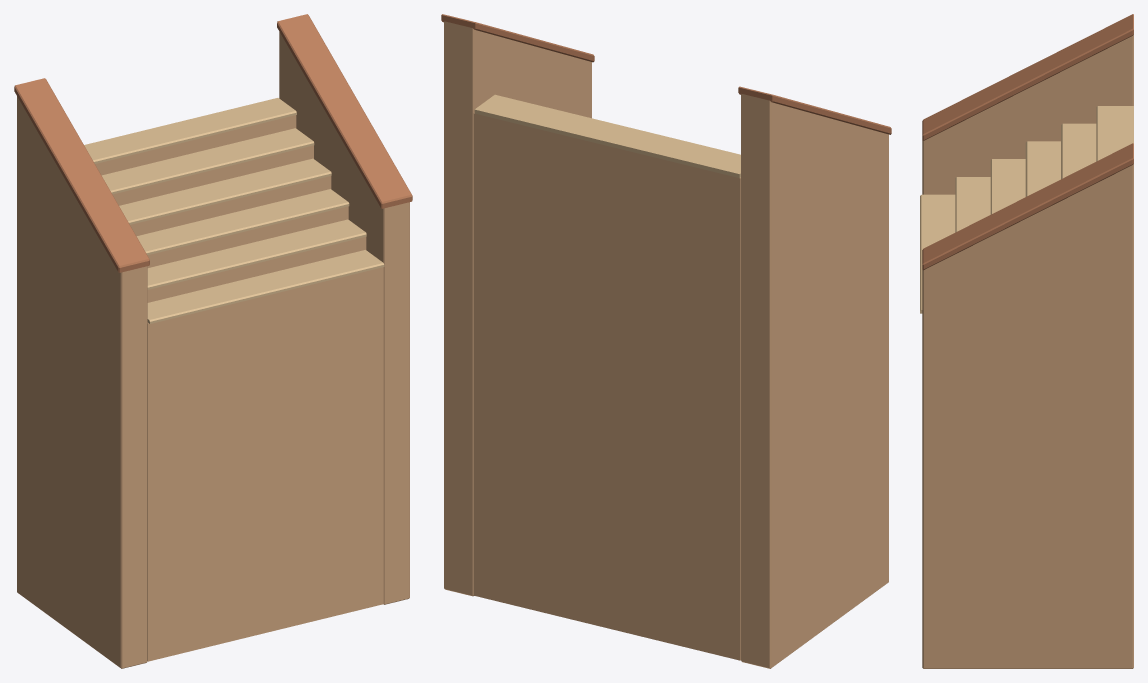
Rendered from terrace_stairs_flight.fbx.
The picture shows the model from 3 angles, left to right: view 1: azimuth 30°, elevation 25°; view 2: azimuth 150°, elevation 25°; view 3: azimuth 270°, elevation 25°; orthographic projection. The views are drawn at different scales.
Visible parts, largest first — view 1: Terrace_Stairs_Flight; view 2: Terrace_Stairs_Flight; view 3: Terrace_Stairs_Flight.
Part boxes in pixels (x1,y1,x2,y2): Terrace_Stairs_Flight: (14,14,412,668); Terrace_Stairs_Flight: (441,14,891,668); Terrace_Stairs_Flight: (920,14,1133,668).
Size of the model in its own units: 437 by 721 by 273.
